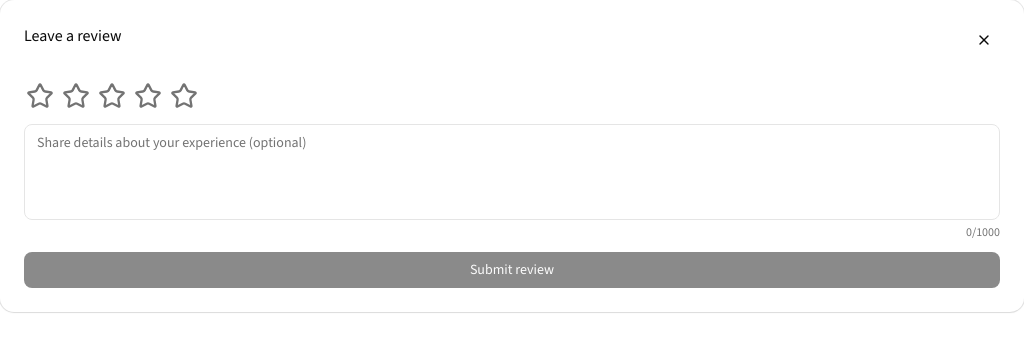
Test: ReviewCard › reverts to the form and shows an inline error on API failure
Click the radio button named "5 stars".
click(184, 96)  # box x1=168 y1=80 x2=200 y2=112
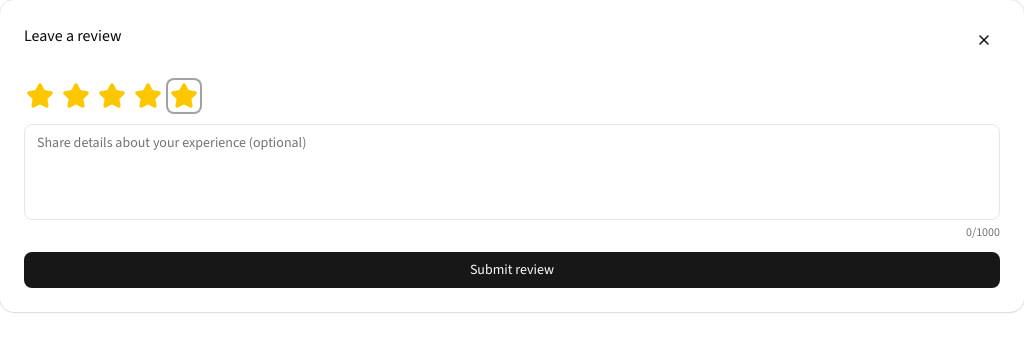
Click the button "Submit review".
click(512, 270)  # box x1=24 y1=252 x2=1000 y2=288
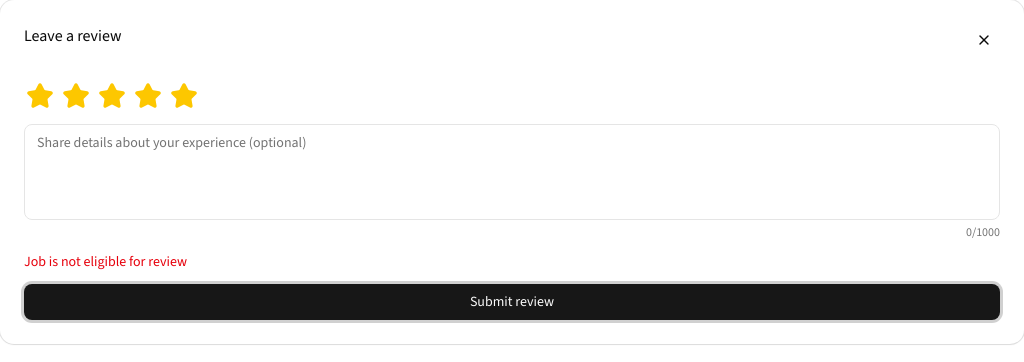
Expected: the text "Leave a review" is shown, x1=24 y1=25 x2=122 y2=46
Expected: the message reads "Job is not eligible for review", x1=24 y1=252 x2=187 y2=271
